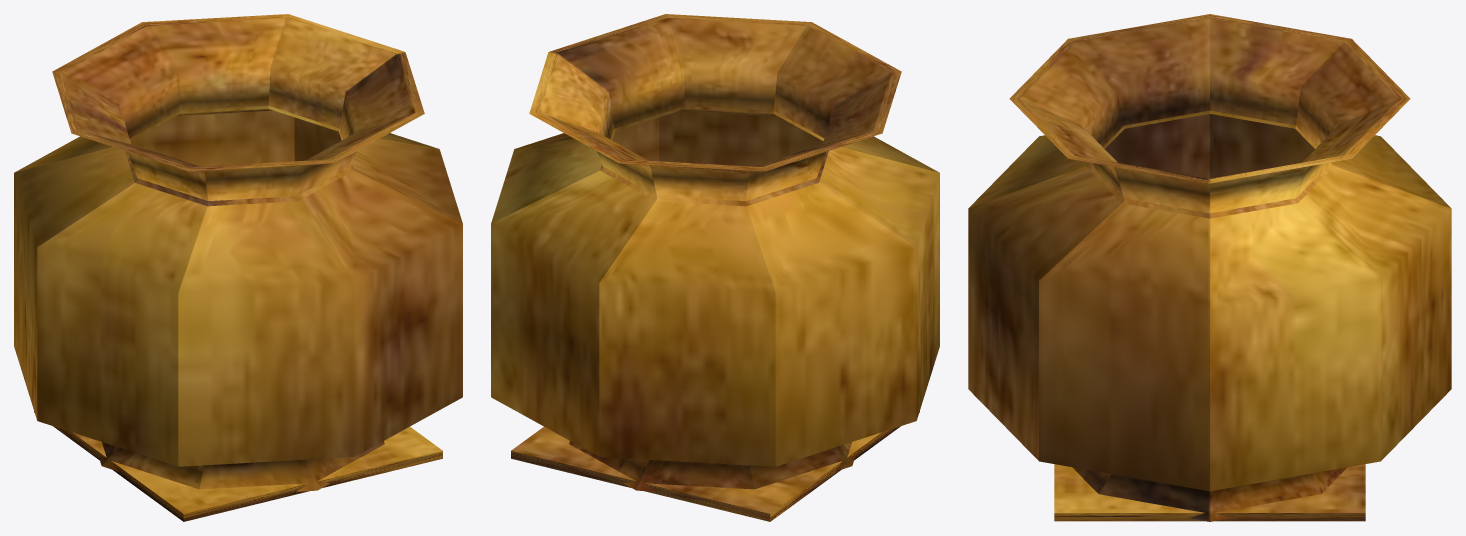
The model's file is myjarron1.fbx.
3 renders of one model, left to right at view 1: azimuth 30°, elevation 25°; view 2: azimuth 150°, elevation 25°; view 3: azimuth 270°, elevation 25°, orthographic. The views are drawn at different scales.
Visible parts, largest first — view 1: polySurface1; view 2: polySurface1; view 3: polySurface1.
Part boxes in pixels (x1,y1,x2,y2): polySurface1: (14,14,462,521); polySurface1: (491,14,939,521); polySurface1: (968,14,1451,521).
Bounding box in the file's own units: 21.52 × 17.52 × 21.52.
1 material, 1 textured.
